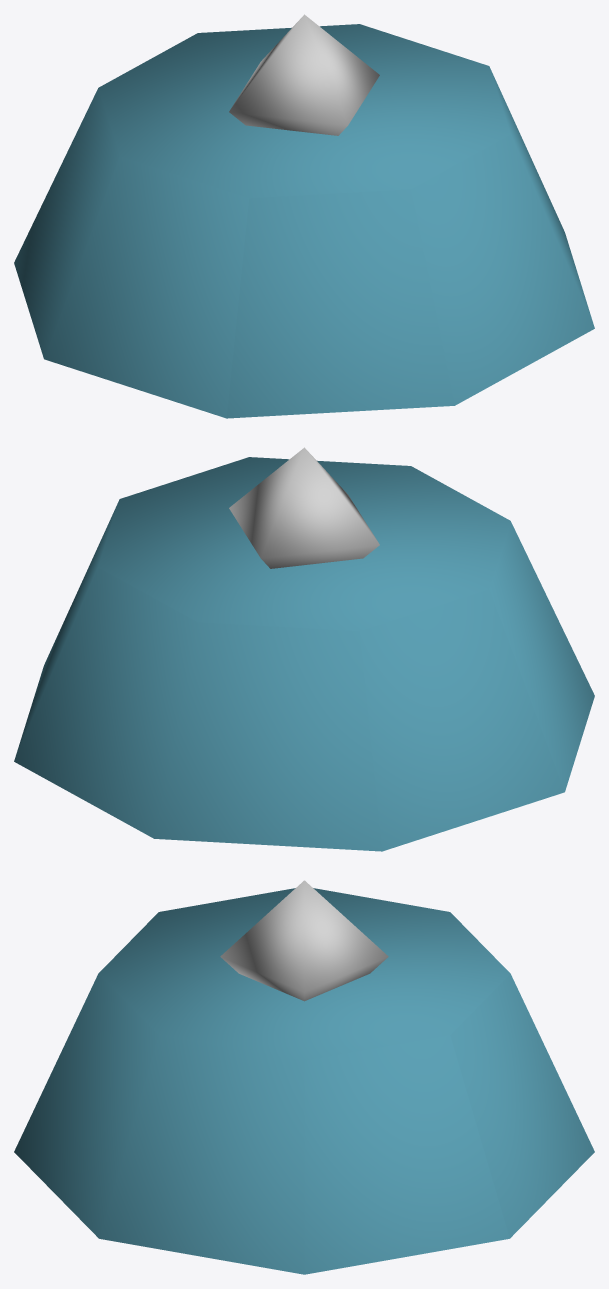
Rendered from hat_beanie.glb.
3 views of the same model, one above another, from view 1: azimuth 30°, elevation 25°; view 2: azimuth 150°, elevation 25°; view 3: azimuth 270°, elevation 25° (orthographic). The views are drawn at different scales.
Visible parts, largest first — view 1: hat_beanie; view 2: hat_beanie; view 3: hat_beanie.
Boxes of the visible parts, x1,y1,x2,y2 form: hat_beanie: [14, 14, 594, 418]; hat_beanie: [14, 447, 594, 851]; hat_beanie: [14, 880, 594, 1274].
Bounding box in the file's own units: 0.1674 × 0.0864 × 0.1674.
